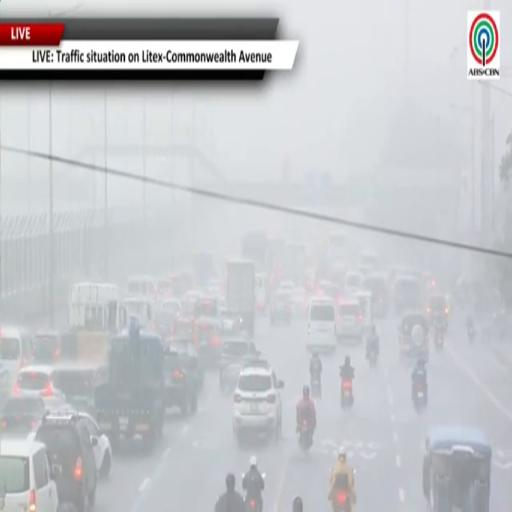car: (29, 411, 97, 511), (0, 439, 59, 511), (233, 361, 284, 442), (53, 363, 107, 411), (77, 412, 112, 478), (164, 347, 198, 414), (220, 339, 259, 392), (0, 397, 46, 435), (13, 365, 64, 399), (173, 338, 204, 393), (307, 297, 336, 353), (195, 317, 221, 367), (336, 299, 364, 343), (154, 299, 181, 340), (32, 331, 62, 364), (427, 295, 449, 331), (270, 291, 291, 325), (194, 295, 218, 318), (181, 291, 202, 317), (219, 307, 239, 333), (292, 287, 308, 318), (316, 281, 339, 300), (345, 270, 363, 294), (278, 281, 295, 293)
motorcycle: (332, 475, 351, 511), (298, 419, 312, 452), (414, 382, 426, 412), (341, 379, 353, 409), (245, 490, 262, 511), (310, 374, 321, 398), (367, 348, 378, 367), (434, 328, 443, 351), (468, 327, 475, 343)
truck: (54, 282, 127, 410), (95, 319, 164, 451), (63, 282, 127, 365), (226, 261, 255, 337), (242, 231, 267, 270), (283, 243, 306, 285), (192, 251, 216, 288)
